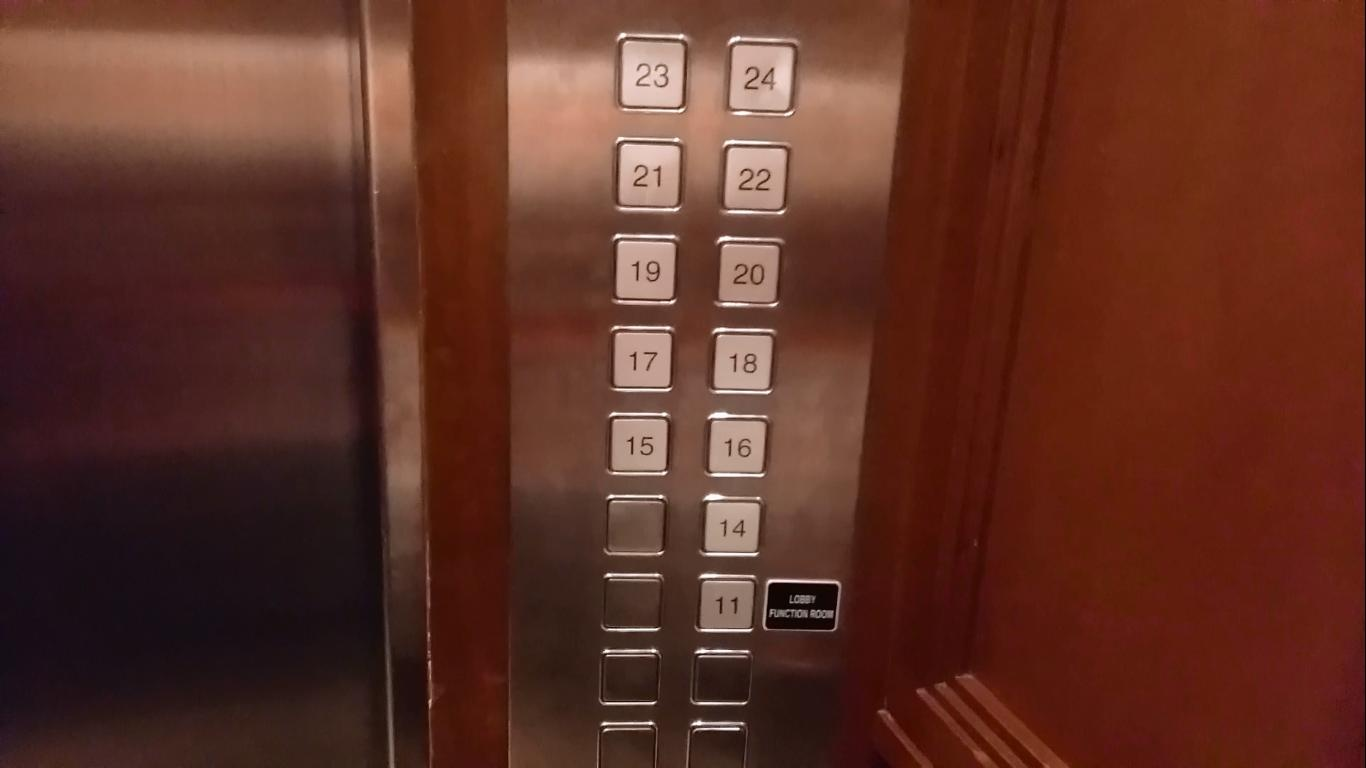11: (693, 572, 760, 637)
14: (697, 492, 765, 558)
15: (605, 409, 674, 480)
16: (702, 411, 770, 481)
17: (608, 324, 678, 395)
18: (706, 326, 776, 395)
19: (608, 231, 681, 307)
20: (712, 233, 786, 308)
21: (612, 134, 687, 214)
22: (720, 140, 790, 216)
23: (612, 30, 689, 115)
24: (727, 36, 798, 119)
empty: (601, 490, 672, 559), (599, 571, 667, 635), (598, 647, 665, 709), (690, 648, 754, 708), (685, 719, 750, 768), (596, 719, 660, 768)
